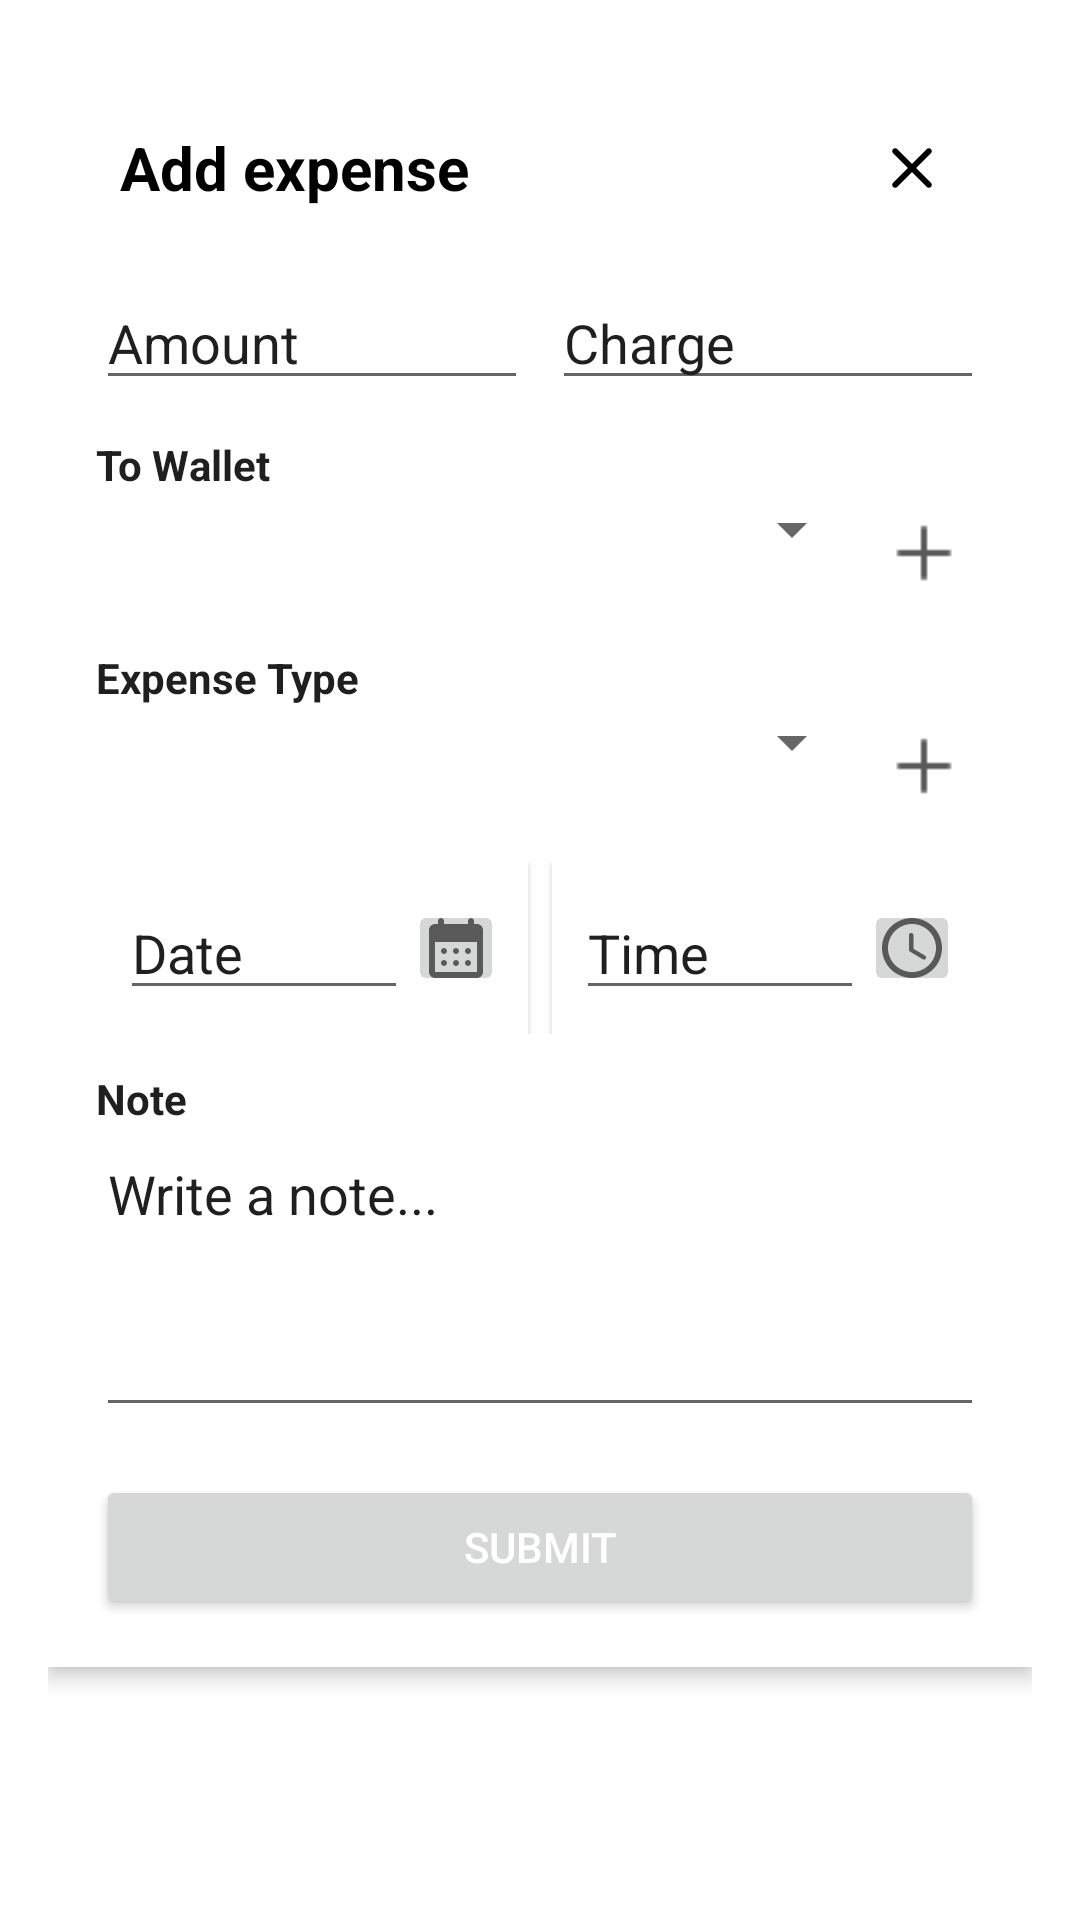

Icon bounding boxes for this 1080x1920 phone screenshot, format (x1, y1, x2, y2):
Add Wallet: (896, 525, 952, 581)
Close: (892, 148, 932, 188)
